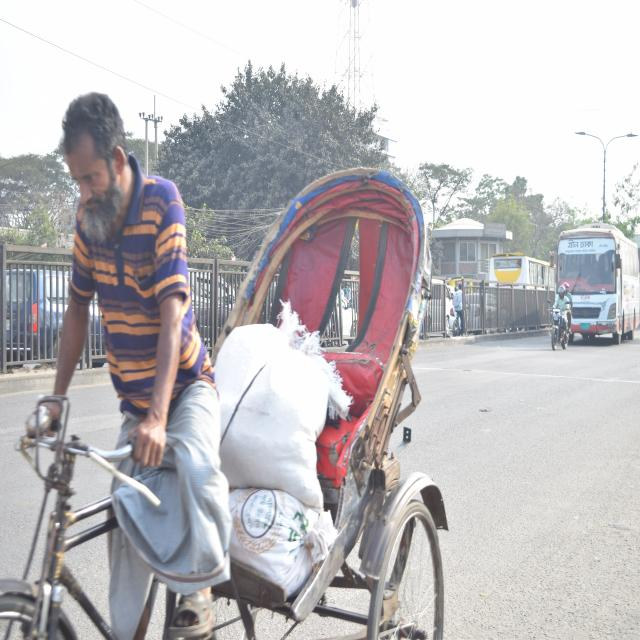bus: (550, 223, 640, 340)
motorbike: (541, 292, 575, 358)
